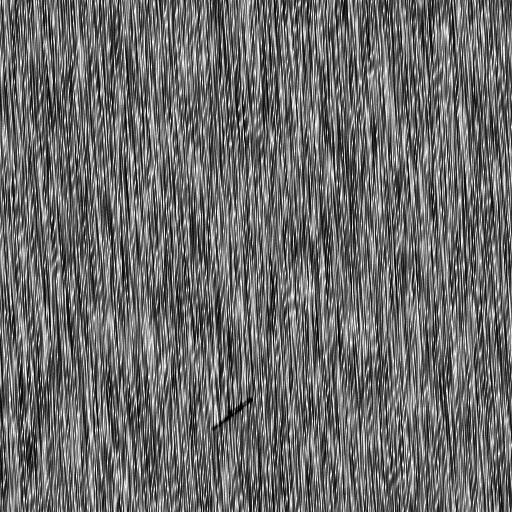DefectTypeC: (215, 397, 254, 429)
